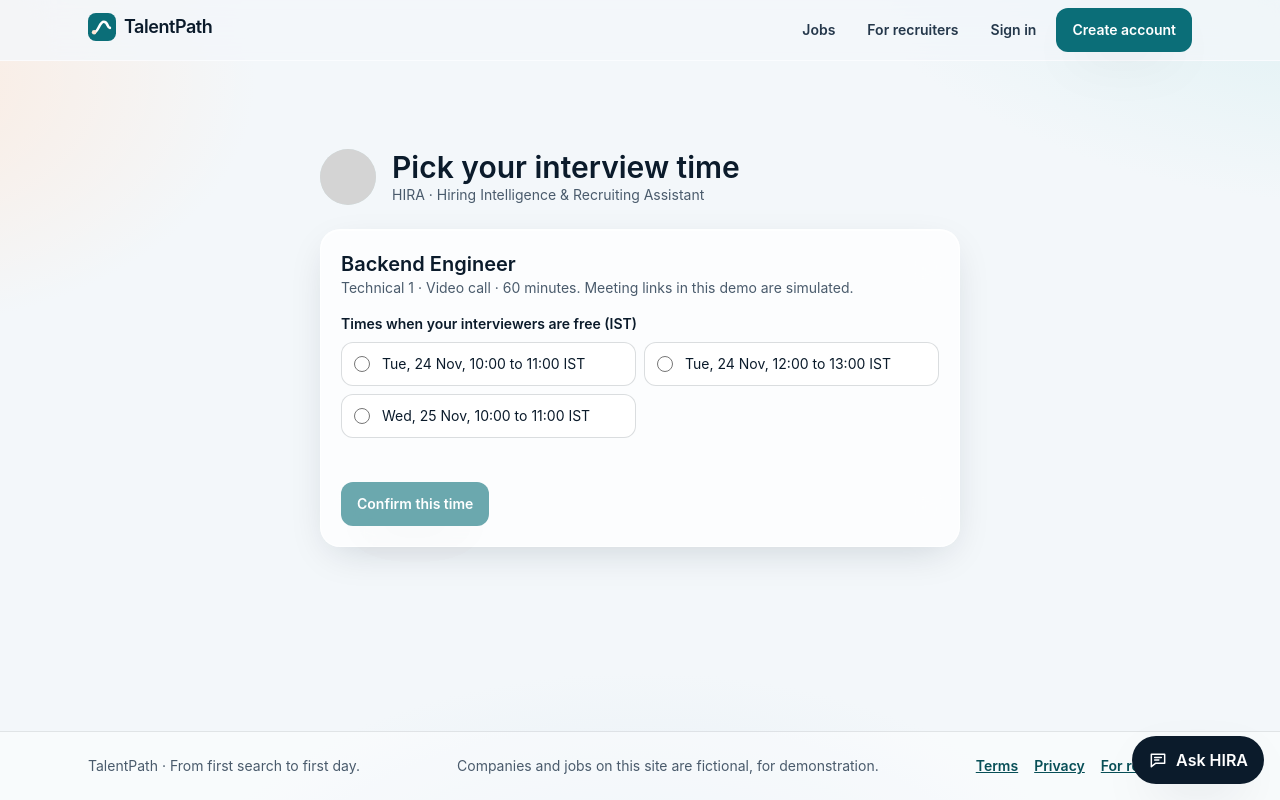
Test case: candidate scheduling picker › works from the email link without signing in
The image size is (1280, 800).
Expected: the heading "Pick your interview time" is shown, [392, 149, 740, 185]
Click the radio button labelled "Tue, 24 Nov, 10:00 to 11:00 IST" at [362, 364], box [354, 356, 370, 372]
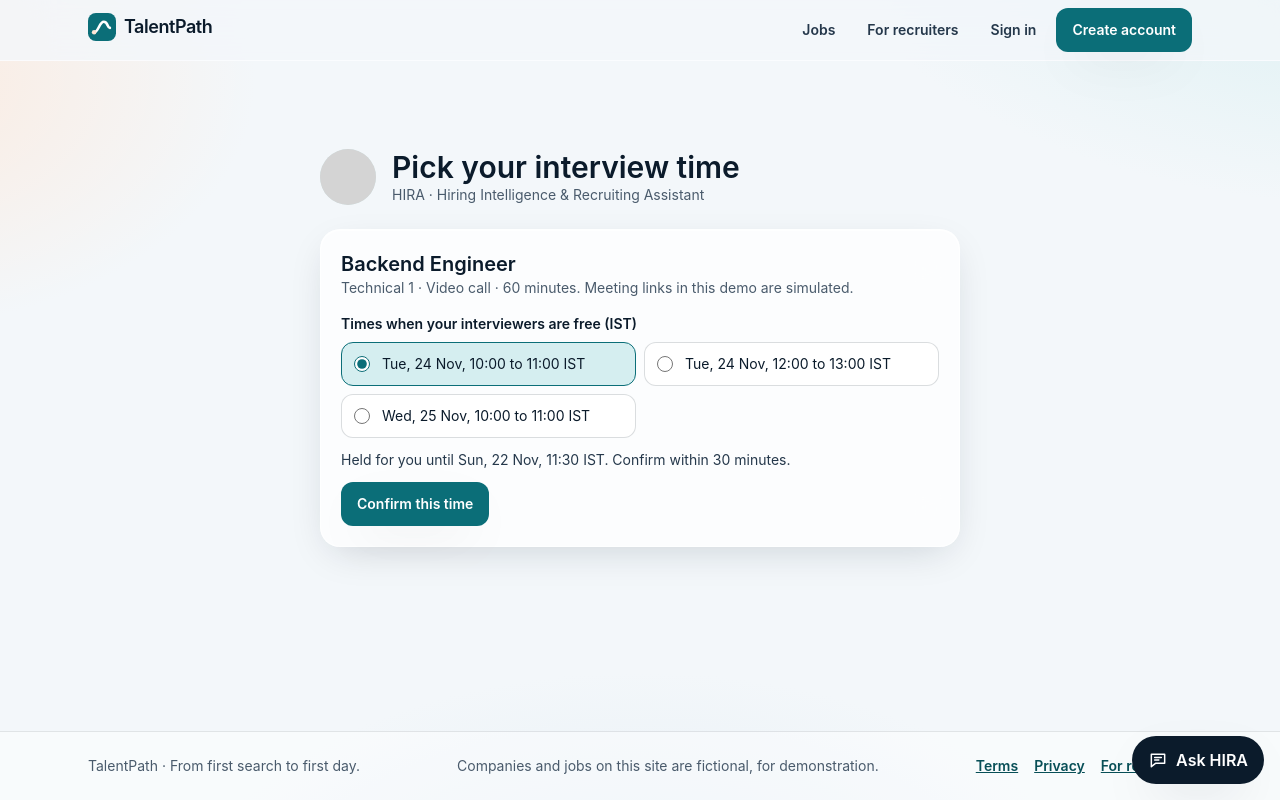
Click the button "Confirm this time" at [415, 504], box [341, 482, 489, 526]
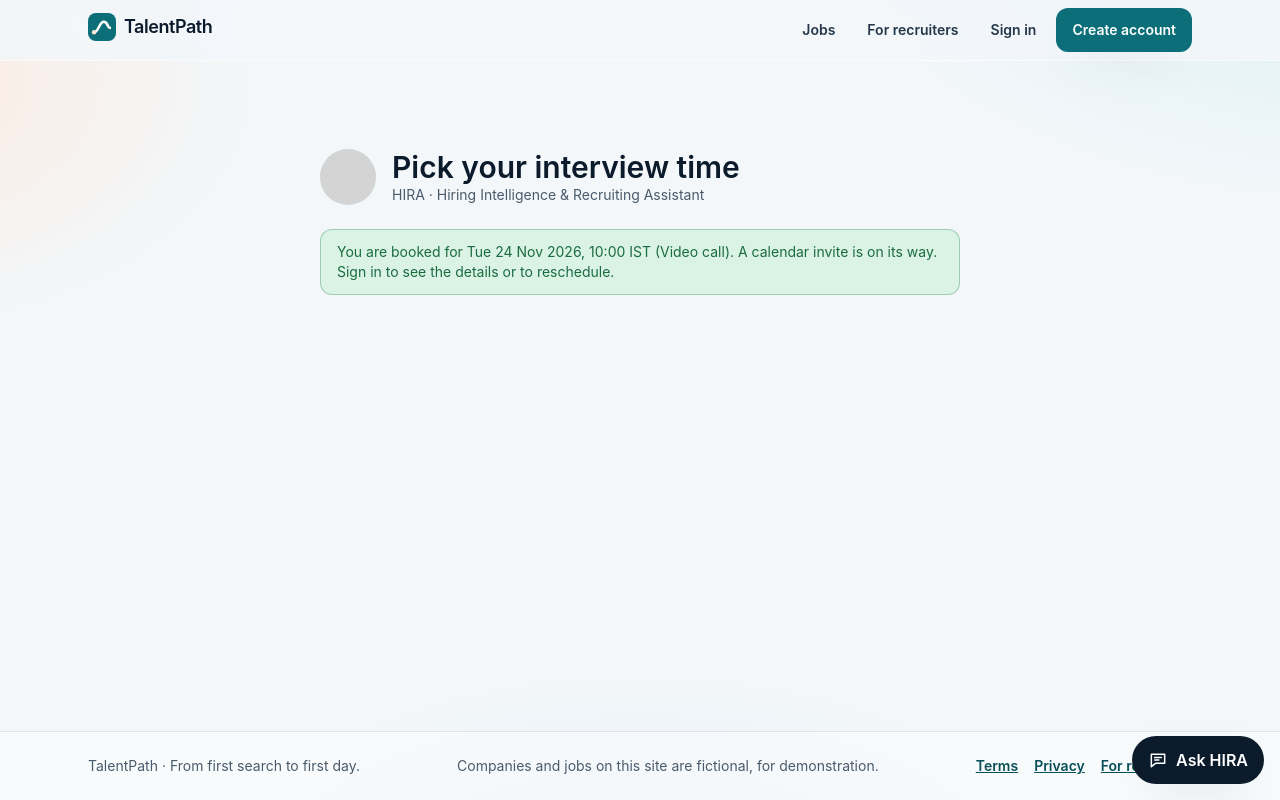
Expected: the text "You are booked for Tue 24 Nov 2026" is shown, [320, 229, 960, 295]
